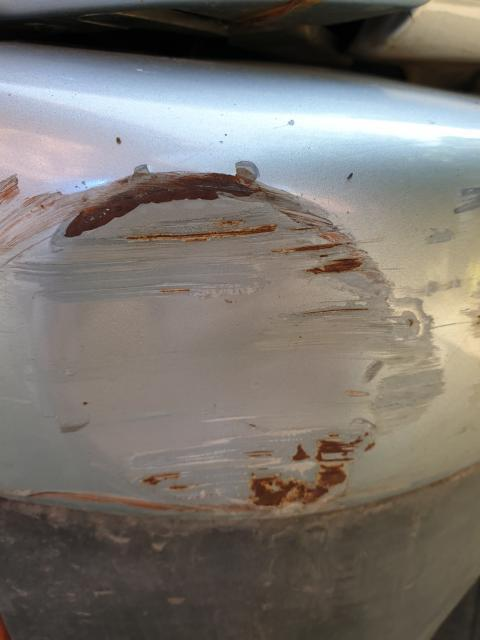dent: (32, 175, 405, 517)
scratch: (383, 184, 480, 436), (0, 172, 83, 296)
